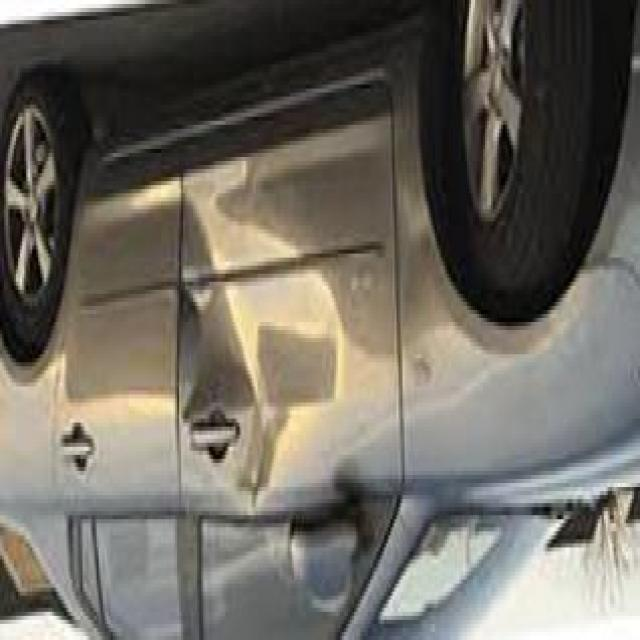dent: (170, 132, 345, 528)
